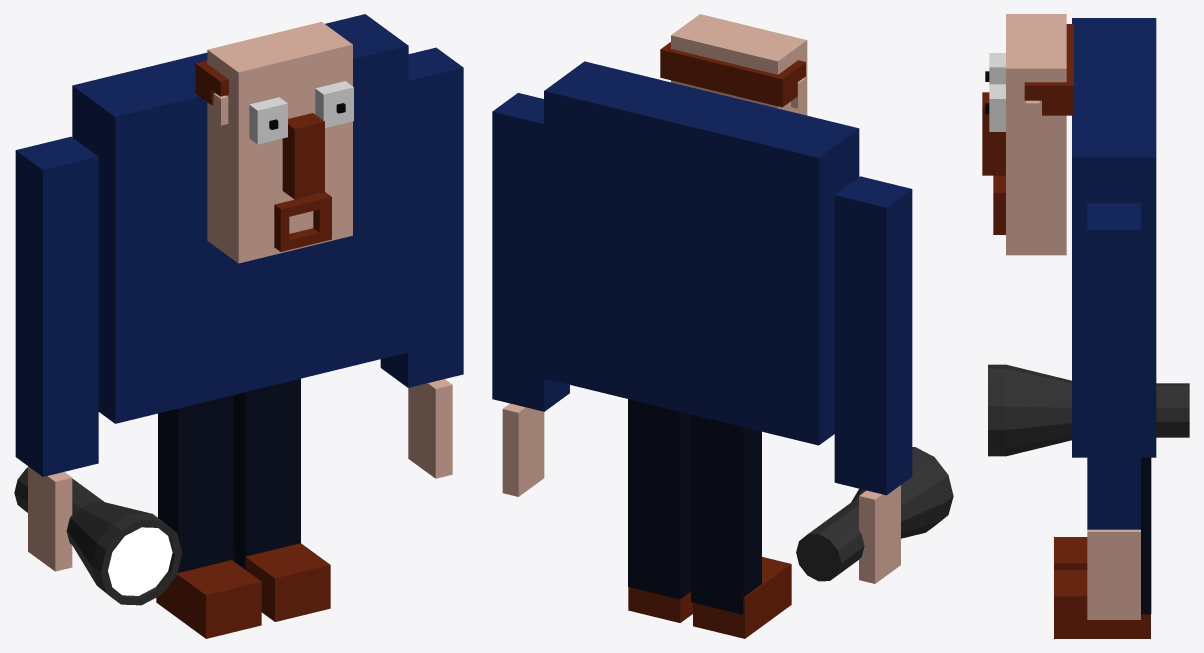
File: hubert.fbx
3 renders of one model, left to right at view 1: azimuth 30°, elevation 25°; view 2: azimuth 150°, elevation 25°; view 3: azimuth 270°, elevation 25°, orthographic. The views are drawn at different scales.
Visible parts, largest first — view 1: Cube, Cube.003, Cube.001, Cube.002, Cube.005, Cube.004, Cylinder, Cube.007, Cube.006, Cube.008, Cube.009, Cube.010 (+4 smaller); view 2: Cube, Cube.003, Cube.002, Cube.005, Cube.004, Cylinder, Cube.001, Cube.013, Cube.007, Cube.008, Cube.009, Cube.006; view 3: Cube, Cube.002, Cube.001, Cylinder, Cube.008, Cube.006, Cube.013, Cube.004, Cube.010, Cube.007, Cube.011, Cube.016 (+2 smaller).
Boxes of the visible parts, x1,y1,x2,y2 form: Cube: [72, 14, 408, 423]; Cube.003: [15, 136, 98, 476]; Cube.001: [207, 21, 352, 263]; Cube.002: [380, 47, 463, 387]; Cube.005: [158, 395, 233, 572]; Cube.004: [233, 378, 300, 569]; Cylinder: [14, 467, 182, 605]; Cube.007: [156, 560, 261, 638]; Cube.006: [245, 543, 330, 621]; Cube.008: [408, 379, 452, 478]; Cube.009: [28, 466, 72, 571]; Cube.010: [282, 113, 324, 199]; Cube: [544, 61, 859, 445]; Cube.003: [834, 176, 912, 495]; Cube.002: [492, 93, 569, 411]; Cube.005: [691, 414, 761, 614]; Cube.004: [628, 399, 690, 599]; Cylinder: [796, 447, 953, 581]; Cube.001: [671, 14, 807, 115]; Cube.013: [660, 42, 805, 107]; Cube.007: [693, 557, 791, 638]; Cube.008: [502, 403, 544, 496]; Cube.009: [859, 485, 900, 583]; Cube.006: [628, 587, 692, 622]; Cube: [1072, 18, 1156, 457]; Cube.002: [1087, 203, 1140, 529]; Cube.001: [1006, 14, 1066, 255]; Cylinder: [988, 364, 1189, 456]; Cube.008: [1087, 529, 1140, 619]; Cube.006: [1054, 570, 1150, 638]; Cube.013: [1024, 24, 1073, 115]; Cube.004: [1141, 457, 1151, 614]; Cube.010: [982, 92, 1005, 175]; Cube.007: [1054, 537, 1087, 569]; Cube.011: [989, 84, 1005, 131]; Cube.016: [993, 175, 1005, 234].
Size of the model in its own units: 287 by 380 by 125.
